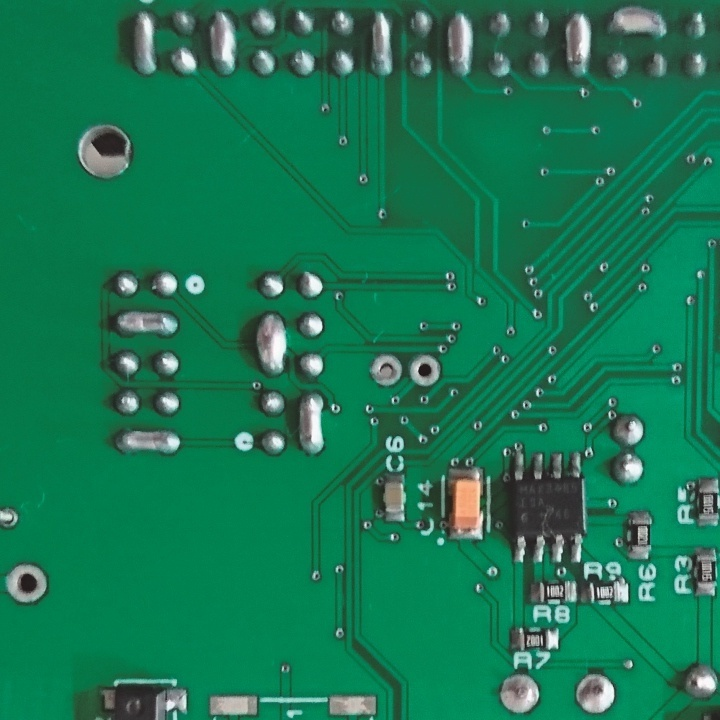F: (568, 669, 621, 716), (3, 563, 50, 607), (496, 671, 542, 715), (369, 350, 401, 387), (408, 354, 442, 387), (1, 501, 21, 534)
P: (607, 3, 670, 44), (206, 7, 239, 81), (444, 6, 474, 82), (111, 426, 182, 458), (253, 311, 287, 376), (109, 307, 180, 338), (565, 9, 593, 83), (296, 391, 327, 456), (366, 9, 393, 80), (133, 6, 158, 82)
